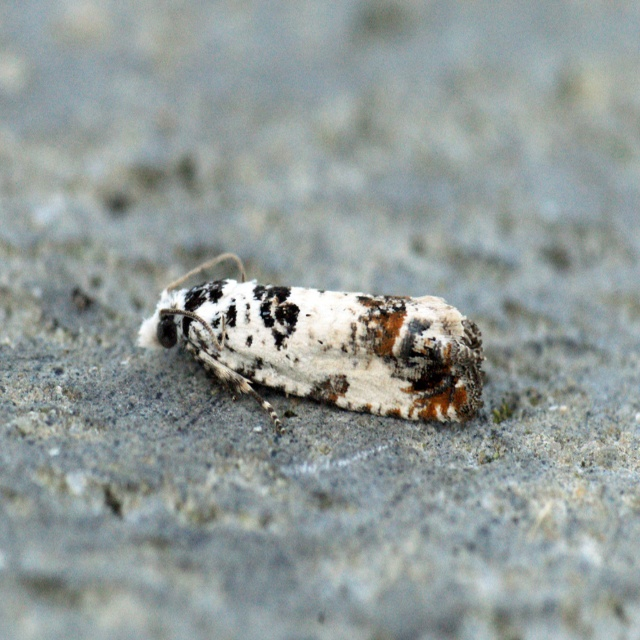Moths and butterflies: (131, 247, 485, 437)
